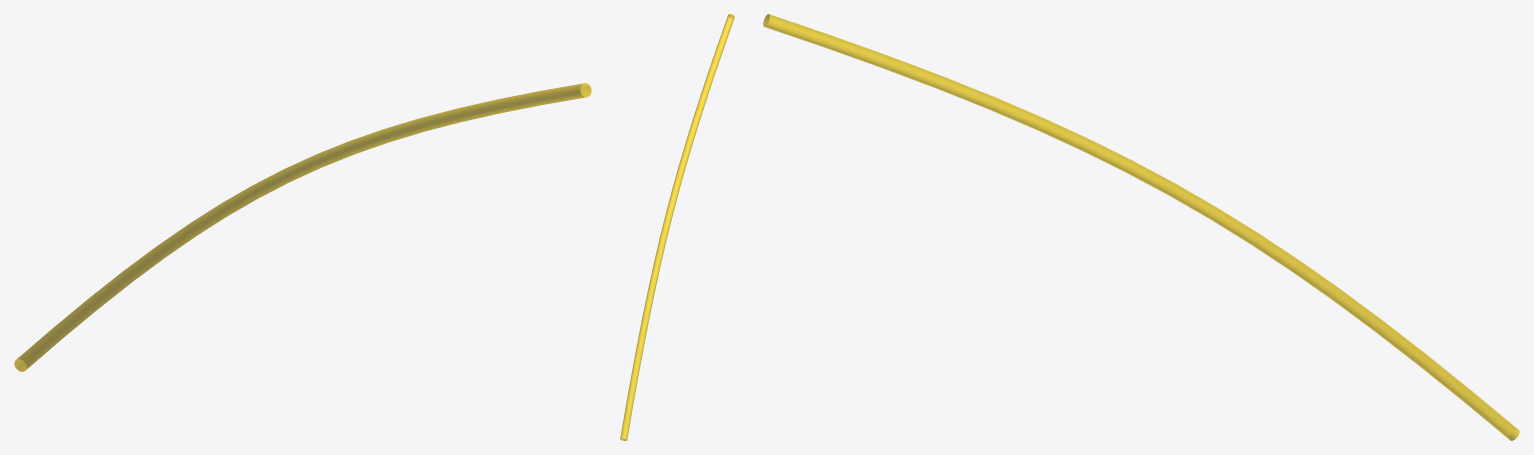
Rendered from Event_31209032_track_7.fbx.
The picture shows the model from 3 angles, left to right: view 1: azimuth 30°, elevation 25°; view 2: azimuth 150°, elevation 25°; view 3: azimuth 270°, elevation 25°; orthographic projection. The views are drawn at different scales.
Visible parts, largest first — view 1: Model; view 2: Model; view 3: Model.
Boxes of the visible parts, box(x1,y1,x2,y2) form: Model: box(14, 83, 591, 371); Model: box(620, 14, 734, 440); Model: box(763, 14, 1519, 440).
Bounding box in the file's own units: 0.6017 × 1.62 × 2.2.
